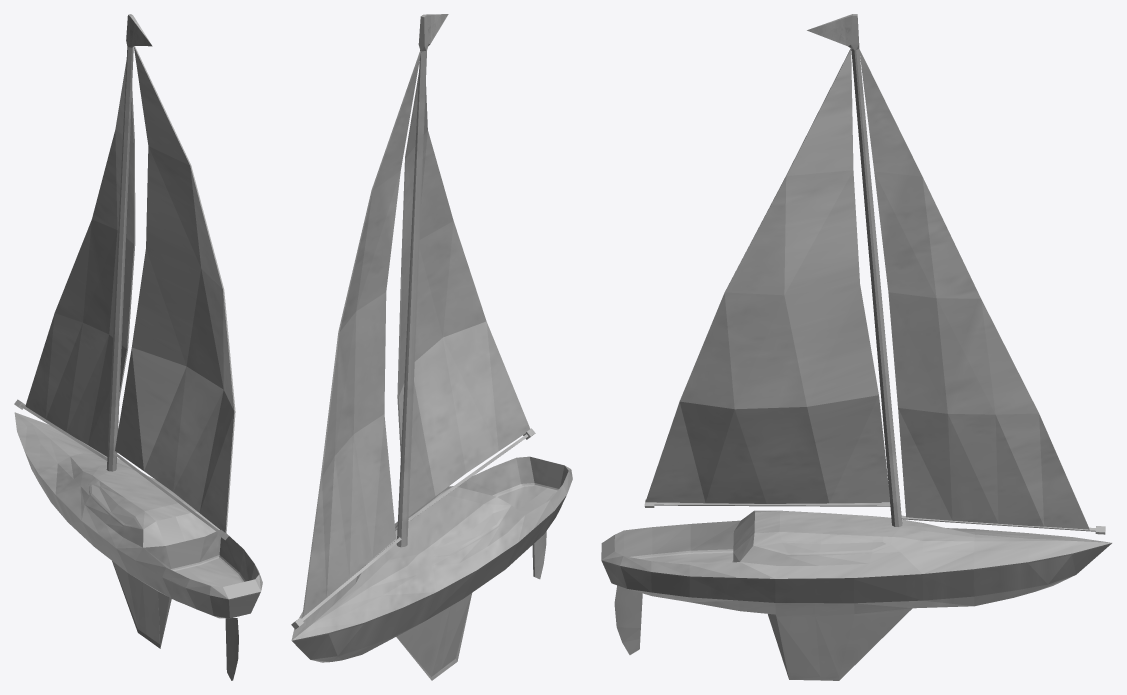
3 views of the same model, side by side, from view 1: azimuth 30°, elevation 25°; view 2: azimuth 150°, elevation 25°; view 3: azimuth 270°, elevation 25° (orthographic). The views are drawn at different scales.
Visible parts, largest first — view 1: sailboat; view 2: sailboat; view 3: sailboat.
Boxes of the visible parts, x1=… form: sailboat: x1=14, y1=14, x2=262, y2=680; sailboat: x1=291, y1=14, x2=572, y2=680; sailboat: x1=601, y1=14, x2=1111, y2=680.
Size of the model in its own units: 1.7 by 10.01 by 6.96.
1 material, 1 textured.
